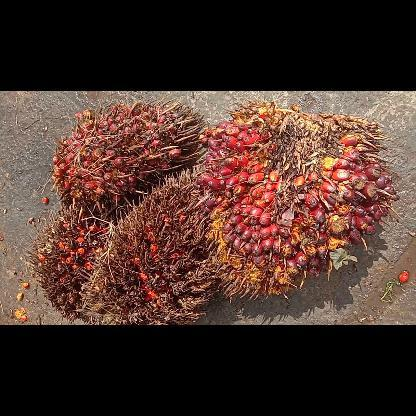TBS masak: (183, 96, 399, 300), (52, 98, 204, 214)
Terlalu masak: (78, 162, 220, 324), (25, 198, 116, 322)
